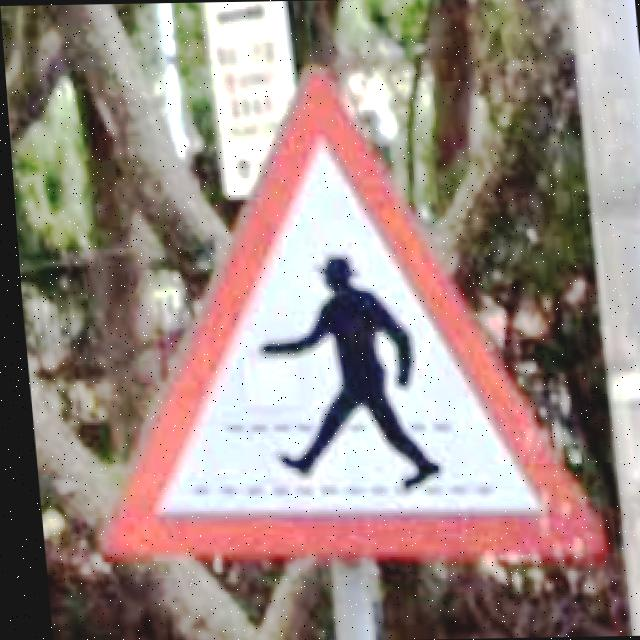pedestriancross: (97, 74, 591, 556)
